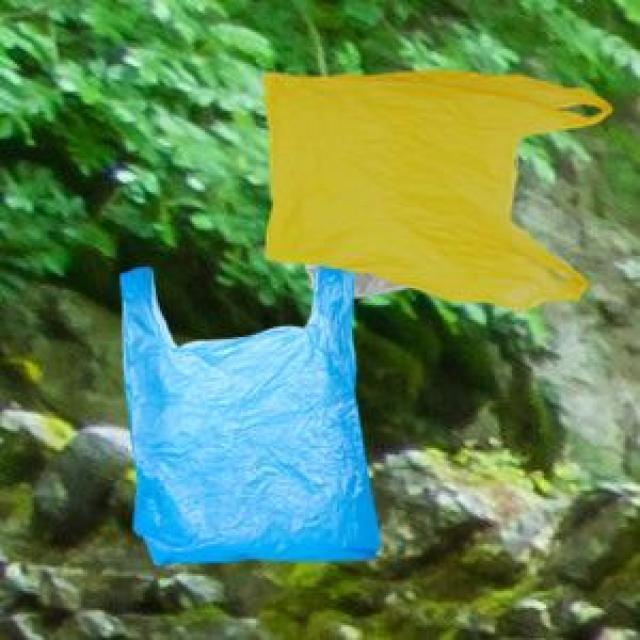waste: (262, 75, 614, 305), (120, 268, 380, 566)
